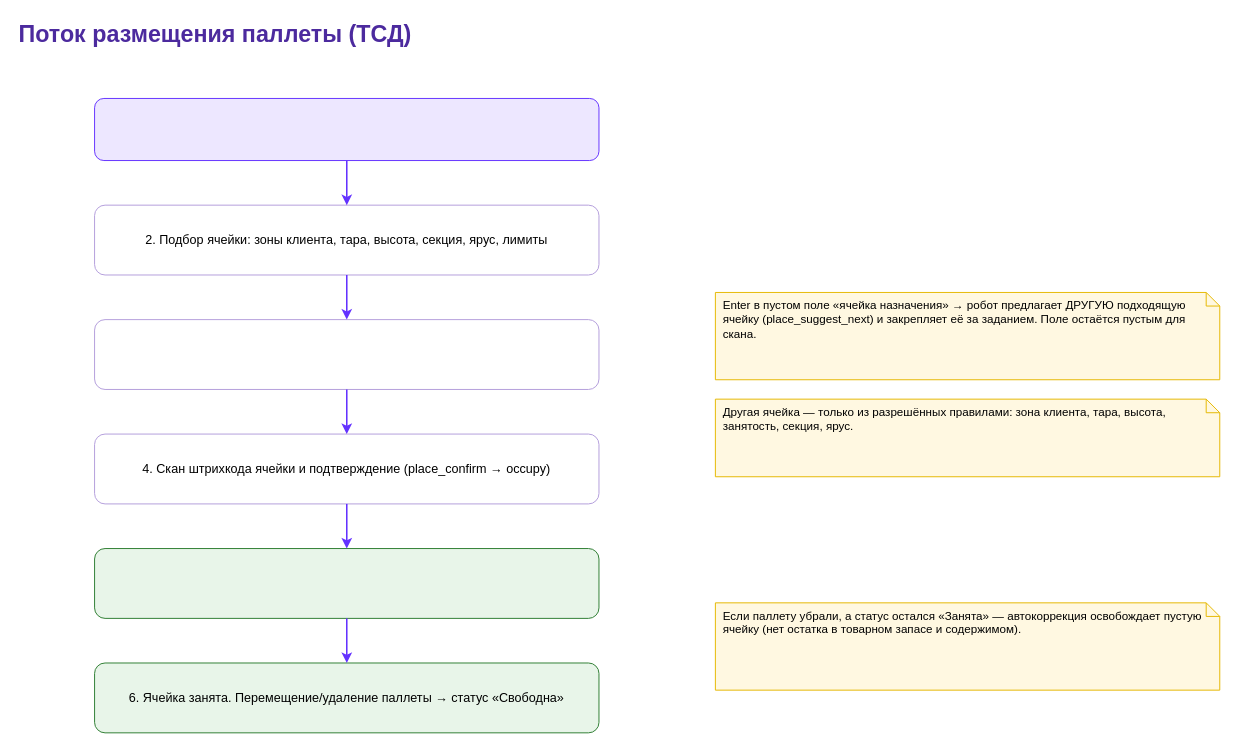
Image size: 1237x750. Some labels were removed from this diagram. The box of each missing label's shape, as (x1, y1, x2, y2) in pixels:
1. Скан SSCC паллеты: (94, 97, 599, 161)
3. Показана ячейка назначения (зона, тара, подсказки): (94, 319, 599, 389)
5. Автонастройка секции: тип закреплён, вторая тара — крест и запрет: (94, 548, 599, 618)
